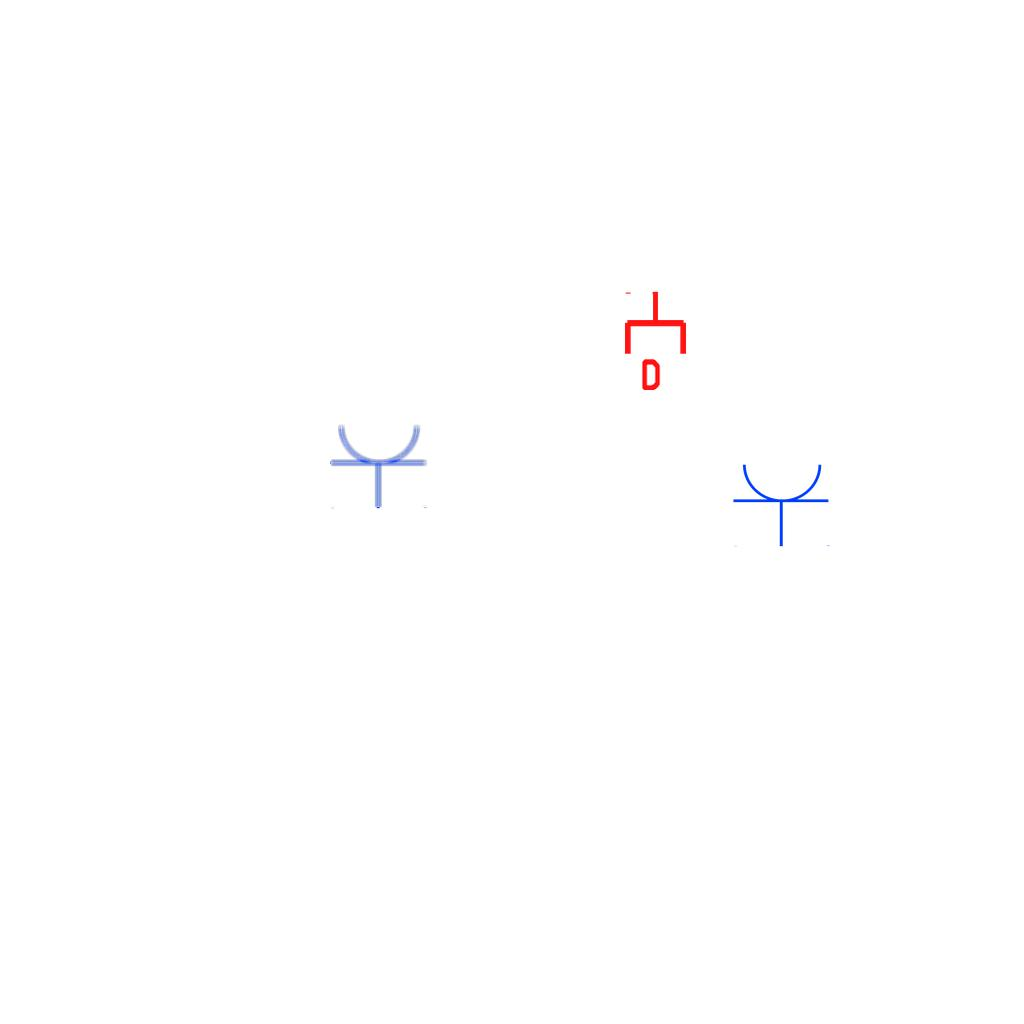Datenanschluss_einfach: (621, 290, 690, 390)
Schukosteckdose_einfach: (732, 460, 832, 547), (329, 422, 429, 509)
